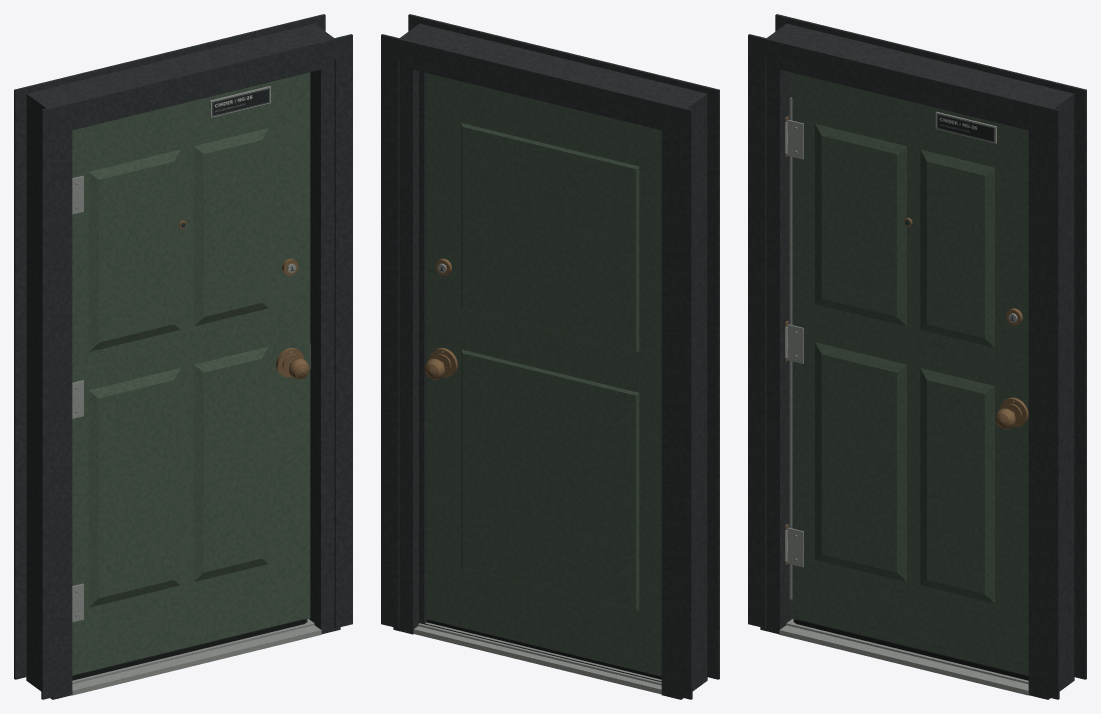
The model's file is ProjectZ_NG26_ExteriorDoor.glb.
The picture shows the model from 3 angles, left to right: view 1: azimuth 30°, elevation 25°; view 2: azimuth 150°, elevation 25°; view 3: azimuth 330°, elevation 25°; orthographic projection.
Parts seen in each view (by area): view 1: Door_Slab__Steel_973x2090x50mm, Door_EmbossedPanels_Exterior, Frame_Jamb_Left__Structural, Frame_Jamb_Right__Structural, Frame_Architrave_Exterior_Left, Frame_Architrave_Exterior_Right, Frame_Architrave_Interior_Left, Frame_Header__Structural, Frame_Architrave_Exterior_Header, Threshold_ExtrudedAluminum, Frame_Architrave_Interior_Header, Door_BottomSweep_EPDM (+1 smaller); view 2: Door_Slab__Steel_973x2090x50mm, Frame_Jamb_Left__Structural, Frame_Jamb_Right__Structural, Frame_Architrave_Interior_Left, Frame_Architrave_Interior_Right, Frame_Architrave_Exterior_Left, Frame_Header__Structural, Frame_Architrave_Interior_Header, Door_SubtlePanels_Interior, Frame_RabbetStop_Right, Threshold_ExtrudedAluminum, Frame_Architrave_Exterior_Header (+1 smaller); view 3: Door_Slab__Steel_973x2090x50mm, Door_EmbossedPanels_Exterior, Frame_Jamb_Right__Structural, Frame_Jamb_Left__Structural, Frame_Architrave_Exterior_Right, Frame_Architrave_Exterior_Left, Frame_Architrave_Interior_Right, Frame_Header__Structural, Frame_Architrave_Exterior_Header, Threshold_ExtrudedAluminum, Frame_Architrave_Interior_Header, Door_HingeSide_SteelReinforcement (+5 smaller).
Part boxes in pixels (left/top/right/bottom): Door_Slab__Steel_973x2090x50mm: left=72, top=72, right=310, bottom=675; Door_EmbossedPanels_Exterior: left=88, top=128, right=268, bottom=607; Frame_Jamb_Left__Structural: left=26, top=89, right=72, bottom=699; Frame_Jamb_Right__Structural: left=295, top=23, right=340, bottom=634; Frame_Architrave_Exterior_Left: left=41, top=105, right=59, bottom=699; Frame_Architrave_Exterior_Right: left=334, top=34, right=352, bottom=628; Frame_Architrave_Interior_Left: left=14, top=86, right=32, bottom=679; Frame_Header__Structural: left=27, top=24, right=334, bottom=133; Frame_Architrave_Exterior_Header: left=41, top=35, right=352, bottom=130; Threshold_ExtrudedAluminum: left=72, top=619, right=321, bottom=695; Frame_Architrave_Interior_Header: left=14, top=15, right=325, bottom=110; Door_BottomSweep_EPDM: left=72, top=619, right=307, bottom=680; Door_Slab__Steel_973x2090x50mm: left=427, top=73, right=661, bottom=676; Frame_Jamb_Left__Structural: left=661, top=89, right=707, bottom=699; Frame_Jamb_Right__Structural: left=393, top=23, right=438, bottom=634; Frame_Architrave_Interior_Left: left=674, top=105, right=692, bottom=699; Frame_Architrave_Interior_Right: left=381, top=34, right=399, bottom=628; Frame_Architrave_Exterior_Left: left=701, top=85, right=719, bottom=679; Frame_Header__Structural: left=399, top=23, right=707, bottom=131; Frame_Architrave_Interior_Header: left=381, top=34, right=692, bottom=130; Door_SubtlePanels_Interior: left=461, top=123, right=639, bottom=611; Frame_RabbetStop_Right: left=419, top=71, right=426, bottom=623; Threshold_ExtrudedAluminum: left=413, top=622, right=661, bottom=694; Frame_Architrave_Exterior_Header: left=408, top=14, right=719, bottom=110; Door_Slab__Steel_973x2090x50mm: left=790, top=72, right=1028, bottom=675; Door_EmbossedPanels_Exterior: left=815, top=124, right=994, bottom=603; Frame_Jamb_Right__Structural: left=1028, top=89, right=1074, bottom=699; Frame_Jamb_Left__Structural: left=760, top=23, right=805, bottom=634; Frame_Architrave_Exterior_Right: left=1041, top=105, right=1059, bottom=699; Frame_Architrave_Exterior_Left: left=748, top=34, right=766, bottom=628; Frame_Architrave_Interior_Right: left=1068, top=85, right=1086, bottom=679; Frame_Header__Structural: left=767, top=24, right=1074, bottom=132; Frame_Architrave_Exterior_Header: left=748, top=35, right=1059, bottom=130; Threshold_ExtrudedAluminum: left=779, top=619, right=1028, bottom=695; Frame_Architrave_Interior_Header: left=775, top=14, right=1086, bottom=110; Door_HingeSide_SteelReinforcement: left=789, top=97, right=792, bottom=599.
Size of the model in its own units: 1.22 by 2.24 by 0.25.
8 materials, 6 textured.
